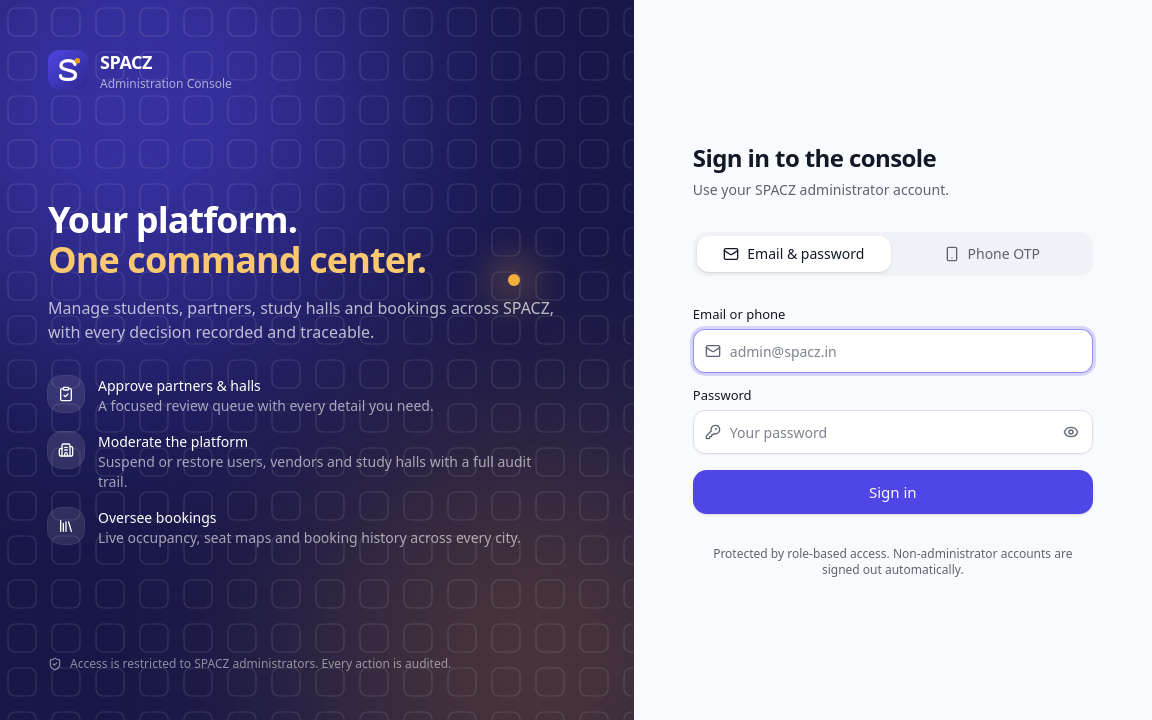
Test: Login › shows the locked-account message
This screenshot has width=1152, height=720.
Step 1. Type "priya@spacz.in" into the field labelled "Email or phone" → coordinates (893, 351), box [693,329,1093,373]
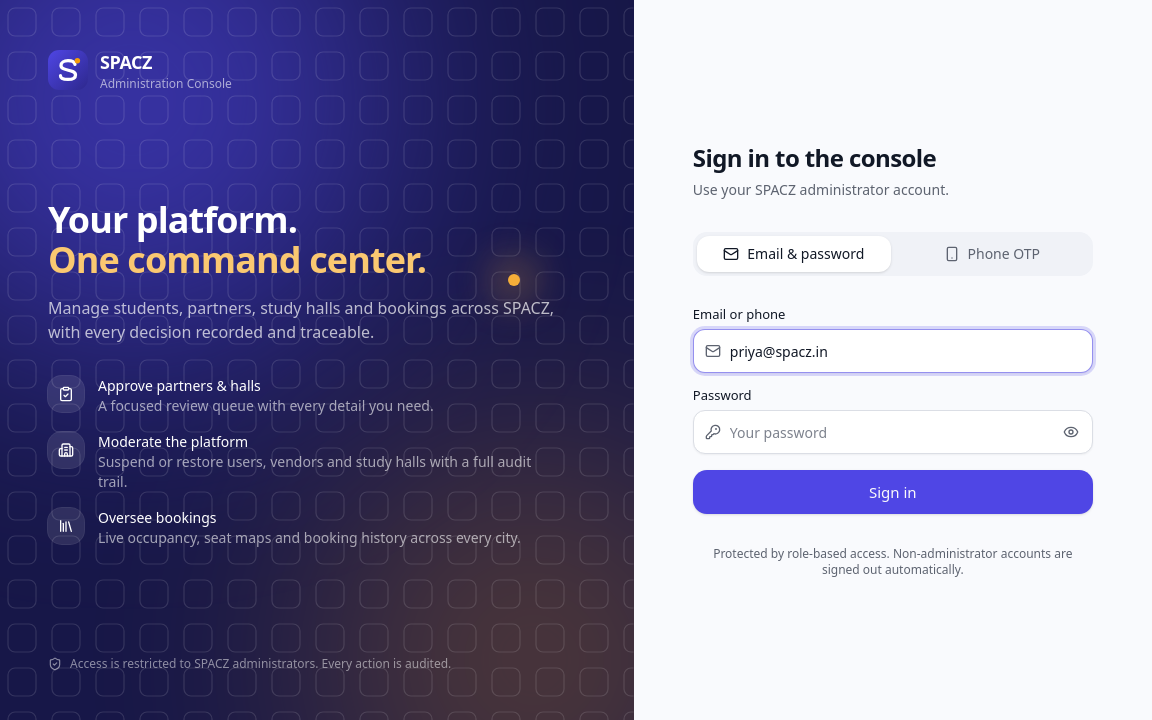
Step 2. Type "secret123" into the password field labelled "Password" → coordinates (893, 432), box [693,410,1093,454]
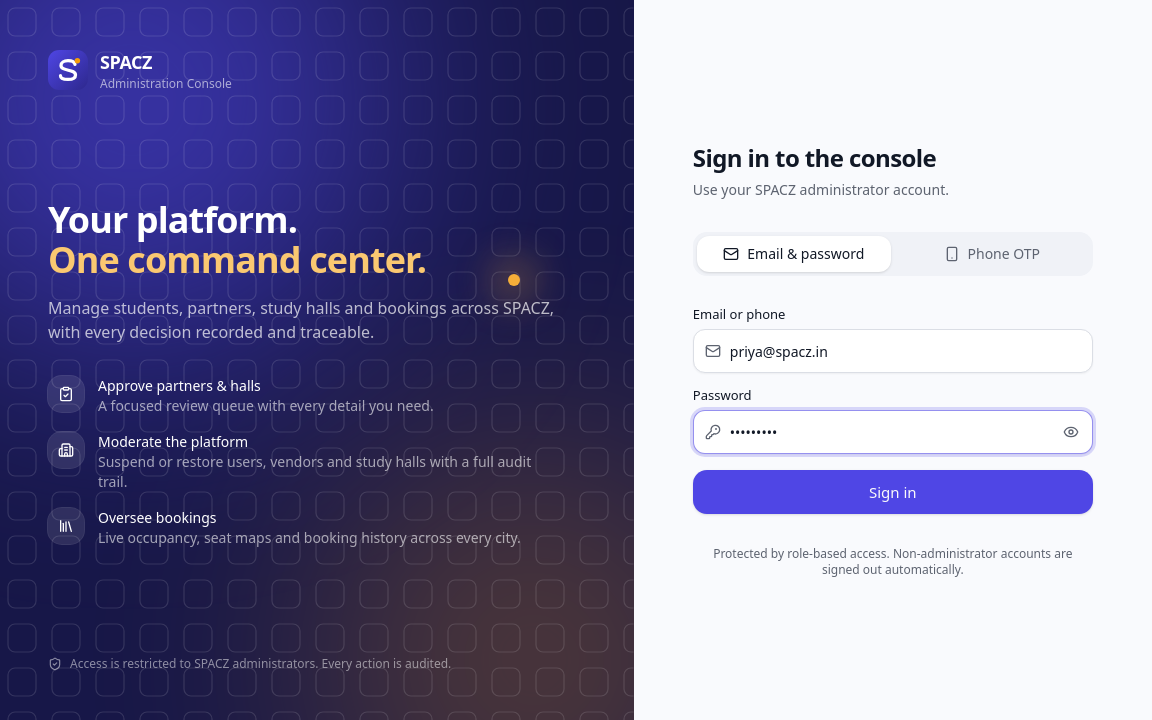
Step 3. Click the button "Sign in" → coordinates (893, 492), box [693,470,1093,514]
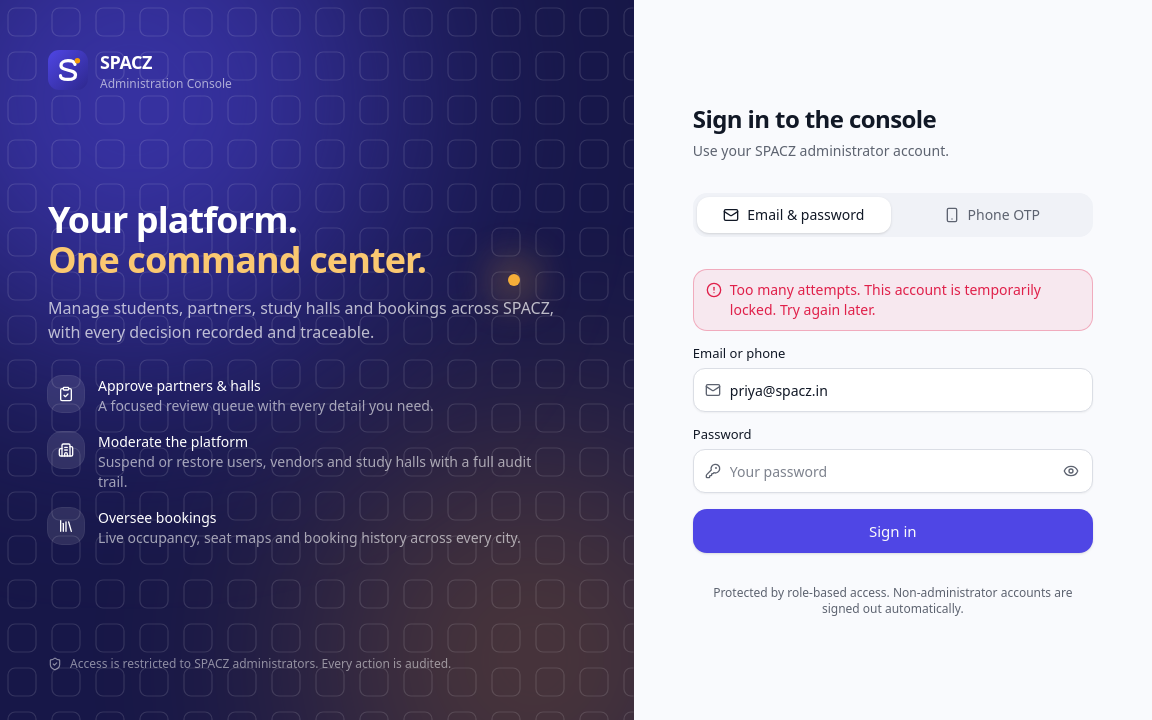
Now the message shows "temporarily locked", box [730,280,1041,319]
